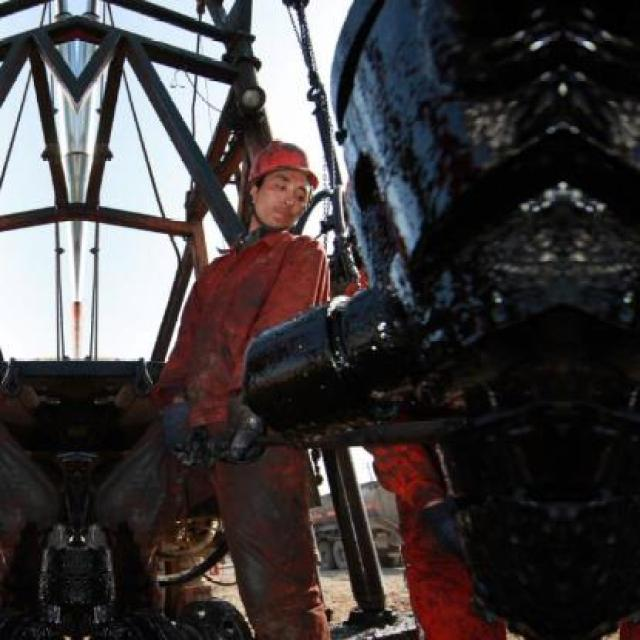helmet: (234, 122, 332, 238)
